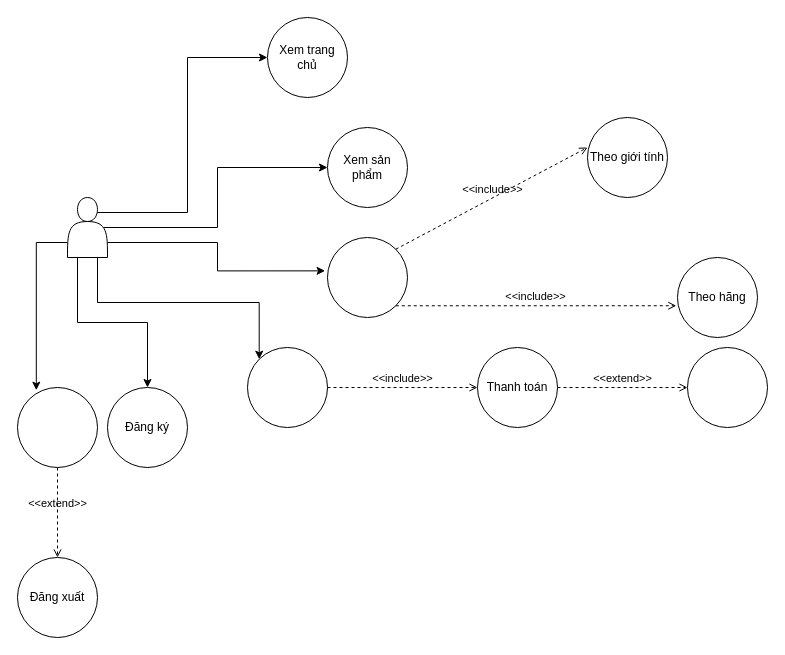
The diagram is 785 pixels wide and 655 high, and some of its shapes have lost their labels. Here are the shapes that lost their labels. From the top down, the box of each, then its label:
(326, 236, 408, 318): Tìm kiếm
(246, 346, 328, 428): Xem giỏ hàng
(686, 346, 768, 428): Quản lí đơn hàng
(16, 386, 98, 468): Đăng nhập
